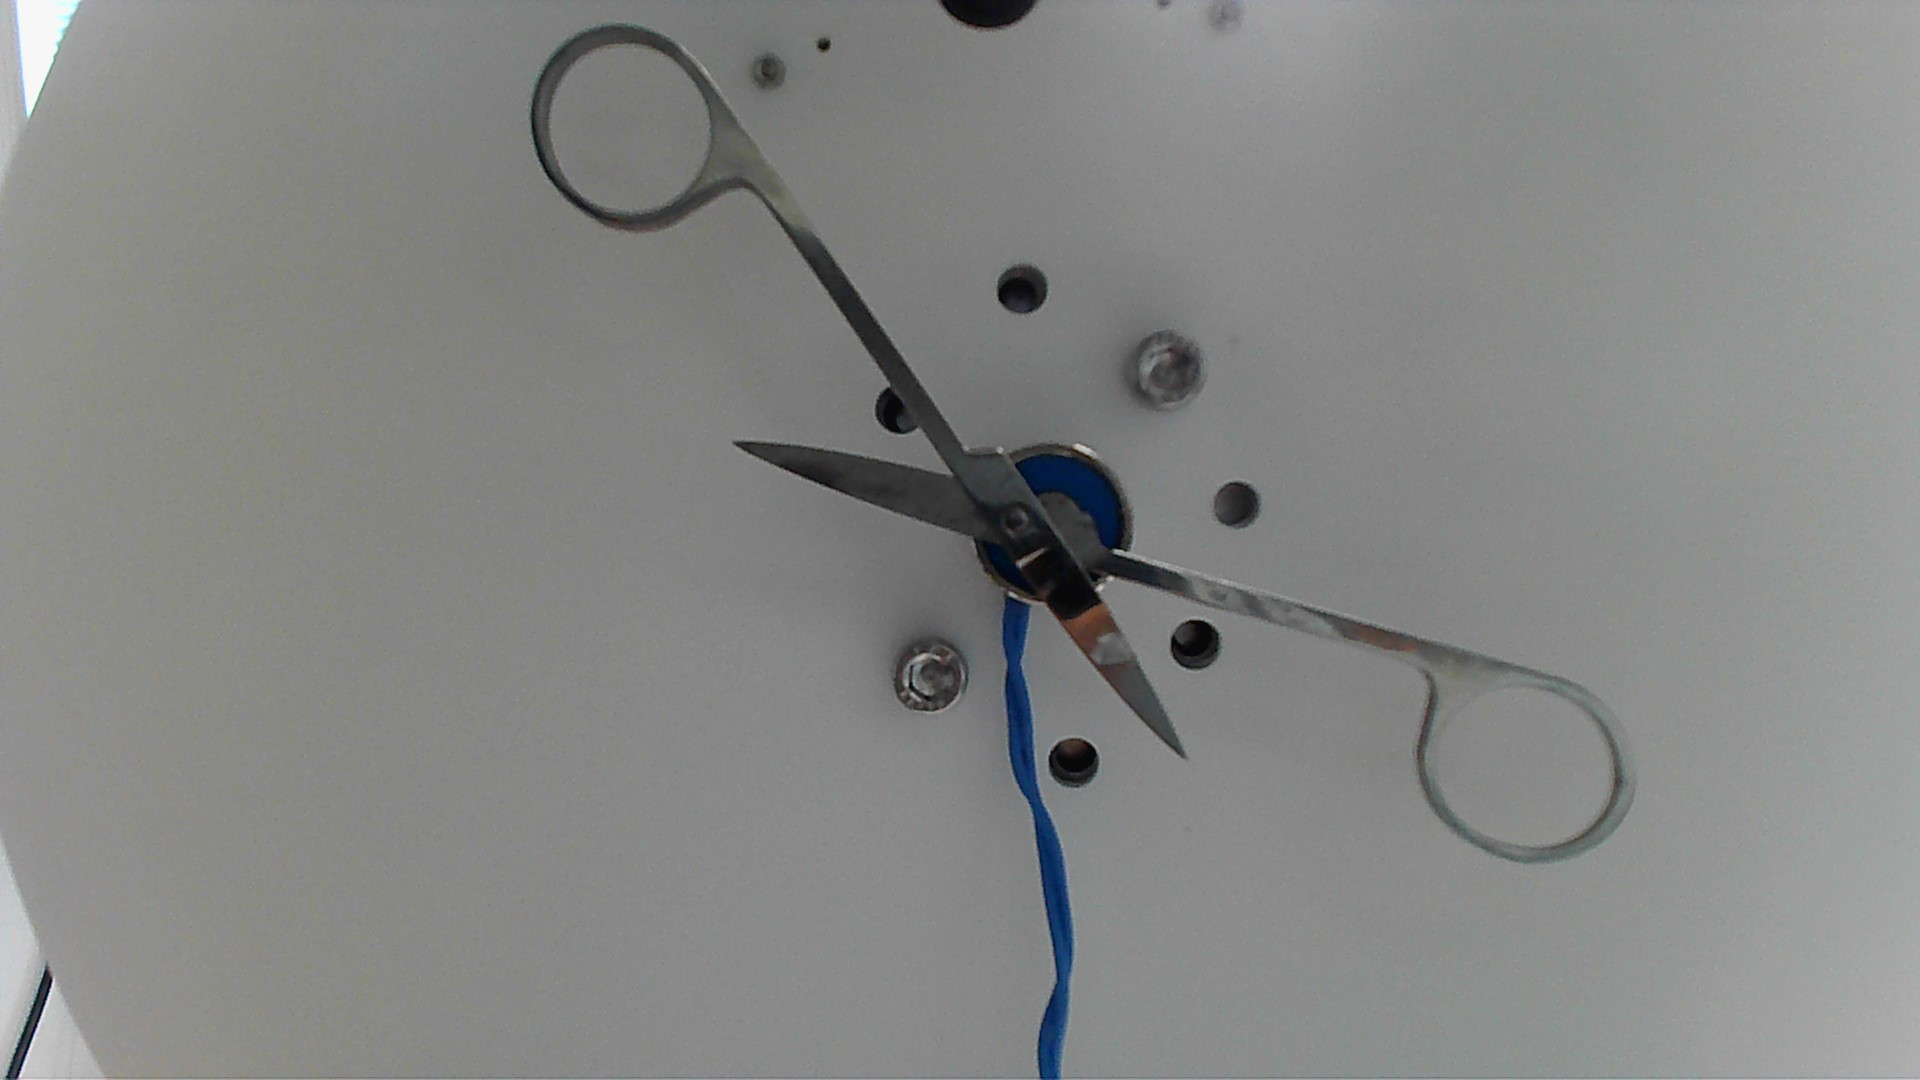Tissues: (1084, 618, 1134, 669)
